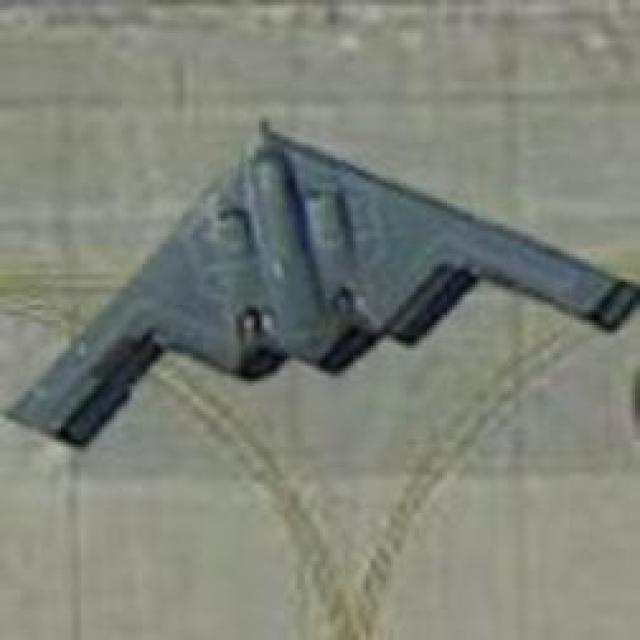B-2_TopDown: (0, 111, 637, 454)
